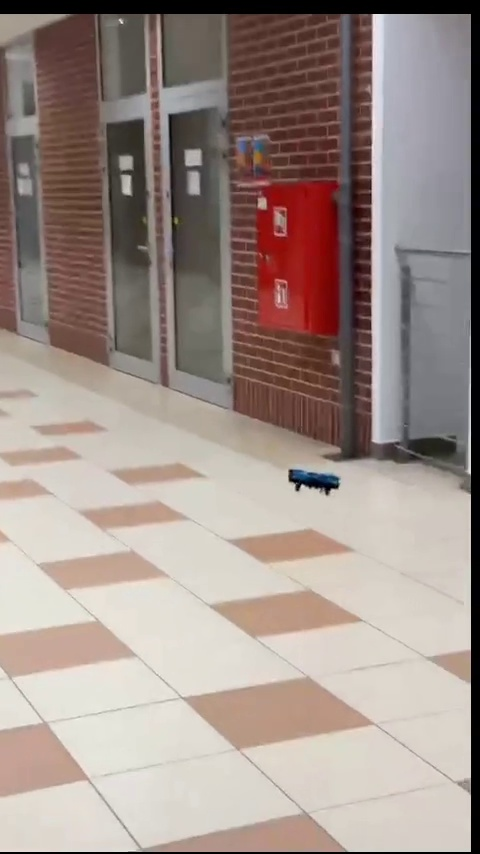drone: (285, 469, 342, 494)
